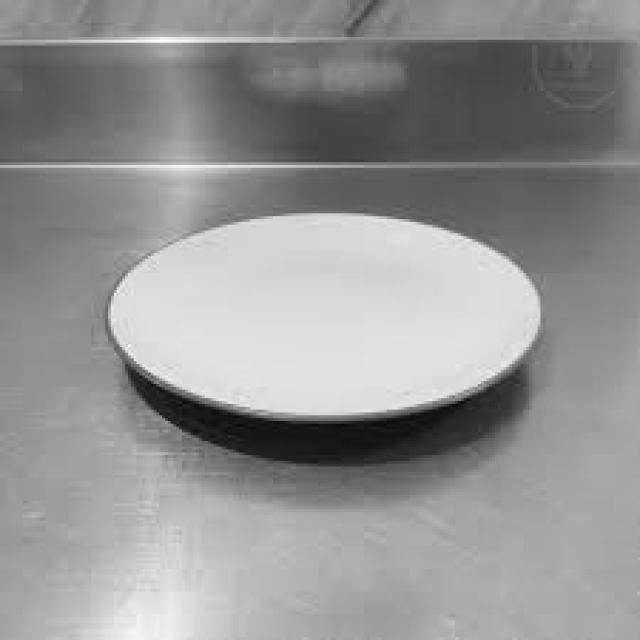dish: (82, 154, 576, 494)
